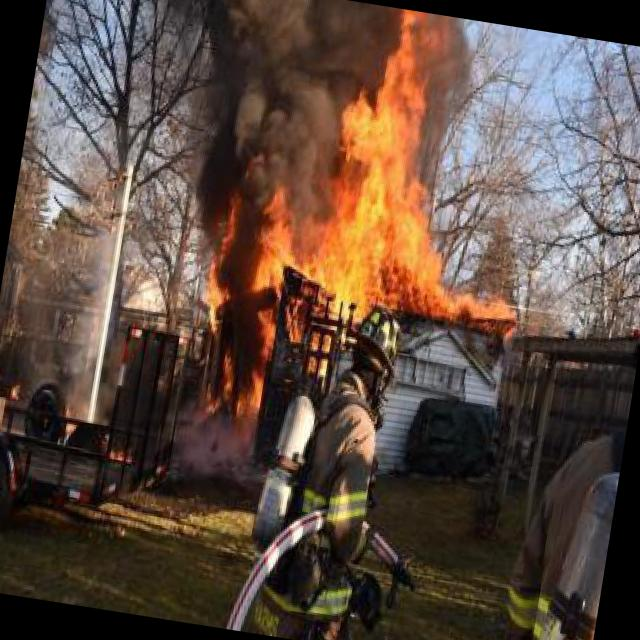Fire: (345, 7, 560, 329), (182, 203, 362, 444)
Smoke: (182, 0, 388, 221)
